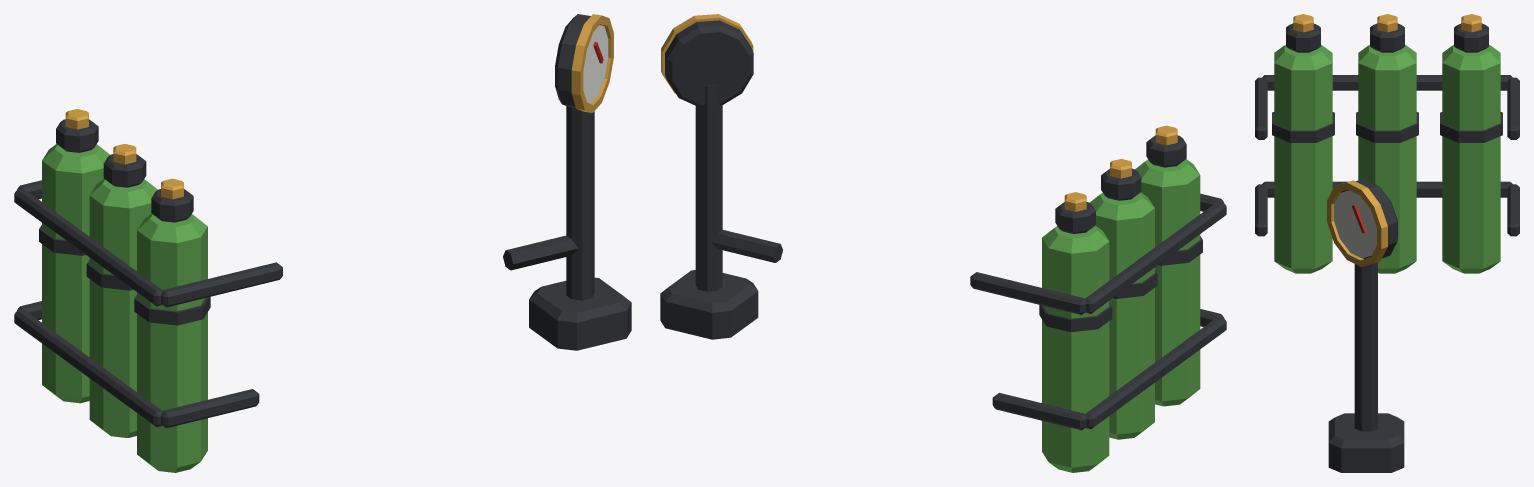
File: MenderDressB1.obj
3 renders of one model, left to right at view 1: azimuth 30°, elevation 25°; view 2: azimuth 150°, elevation 25°; view 3: azimuth 270°, elevation 25°, orthographic. The views are drawn at different scales.
Visible parts, largest first — view 1: MenderDressB1; view 2: MenderDressB1; view 3: MenderDressB1.
Boxes of the visible parts, x1,y1,x2,y2 form: MenderDressB1: (14,14,631,472); MenderDressB1: (660,14,1226,472); MenderDressB1: (1255,14,1519,472).
Bounding box in the file's own units: 1.28 × 0.7214 × 0.63.
